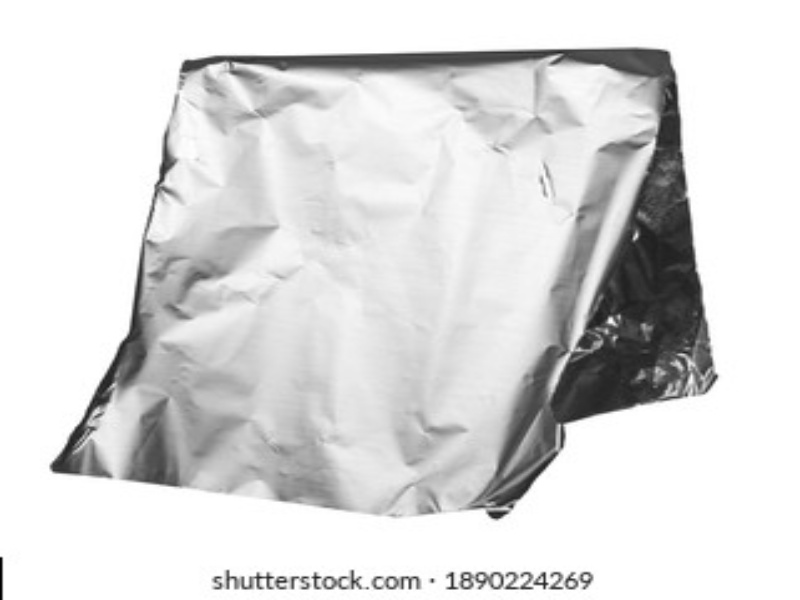Aluminium_Foil: (30, 33, 721, 529)
